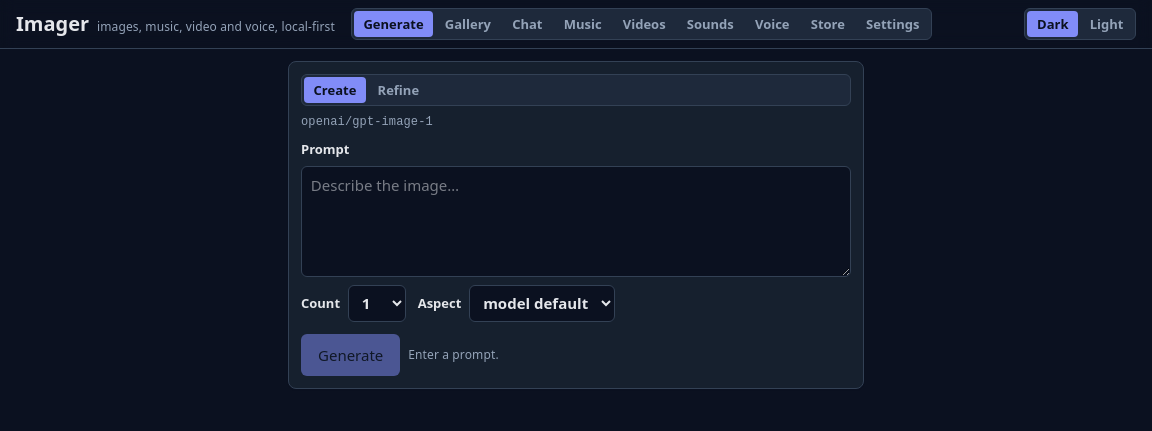
it: a failed run shows no result images and a fresh tab does not resurrect it
Expected: the dropdown named "Aspect ratio" is shown, [469, 285, 615, 322]
Type "x" into the text box labelled "Prompt" at (576, 221), box [301, 166, 851, 277]
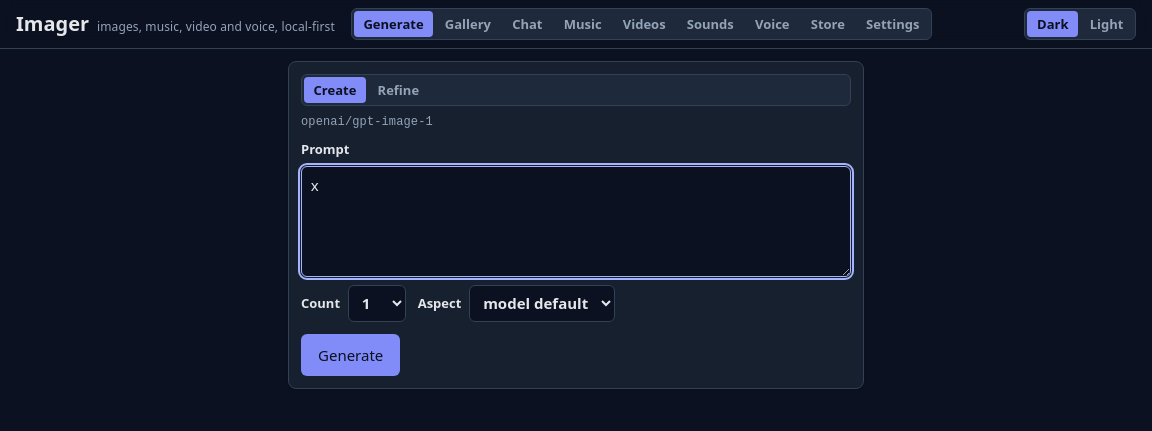
Click the button "Generate" at (351, 354), box [301, 334, 400, 376]
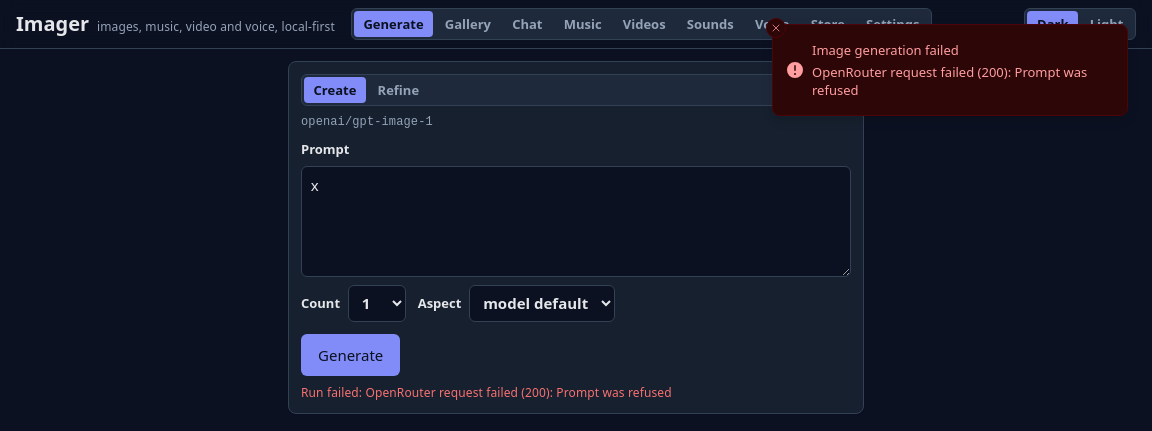
Expected: the text "Run failed: OpenRouter request failed (200): Prompt was refused" is shown, [301, 384, 672, 400]
Click the tab "Gallery" at (468, 24), box [435, 11, 501, 37]
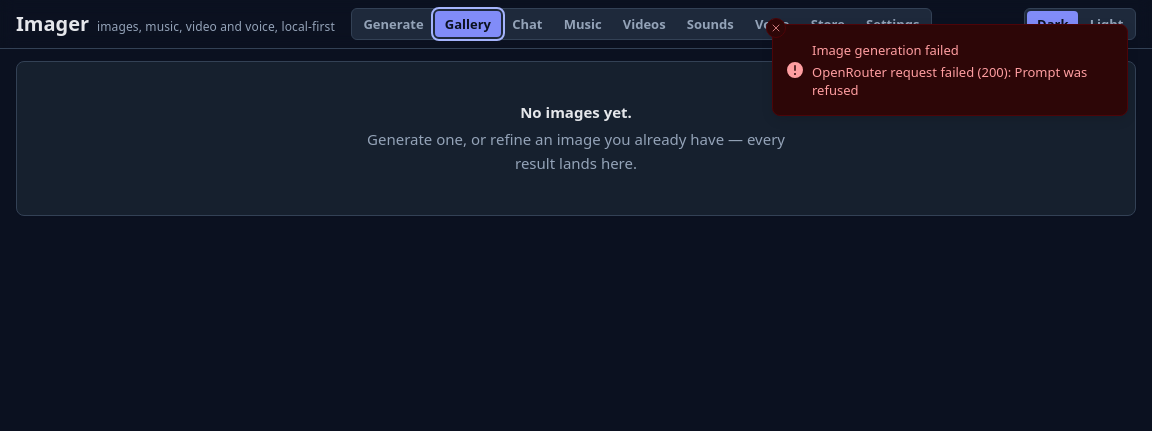
Click the tab "Generate" at (393, 24), box [354, 11, 433, 37]
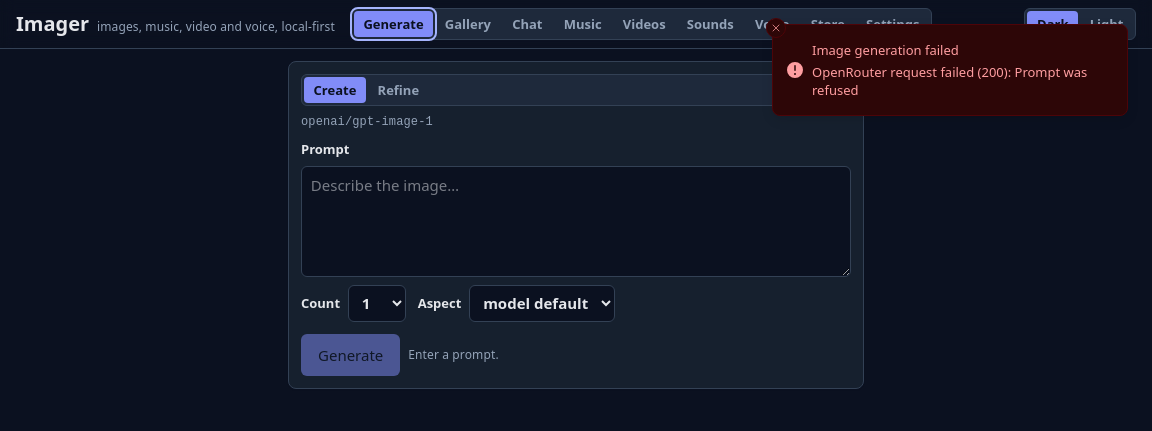
Expected: the text "Run failed" is not shown
Expected: the text box labelled "Prompt" is shown, [301, 166, 851, 277]
